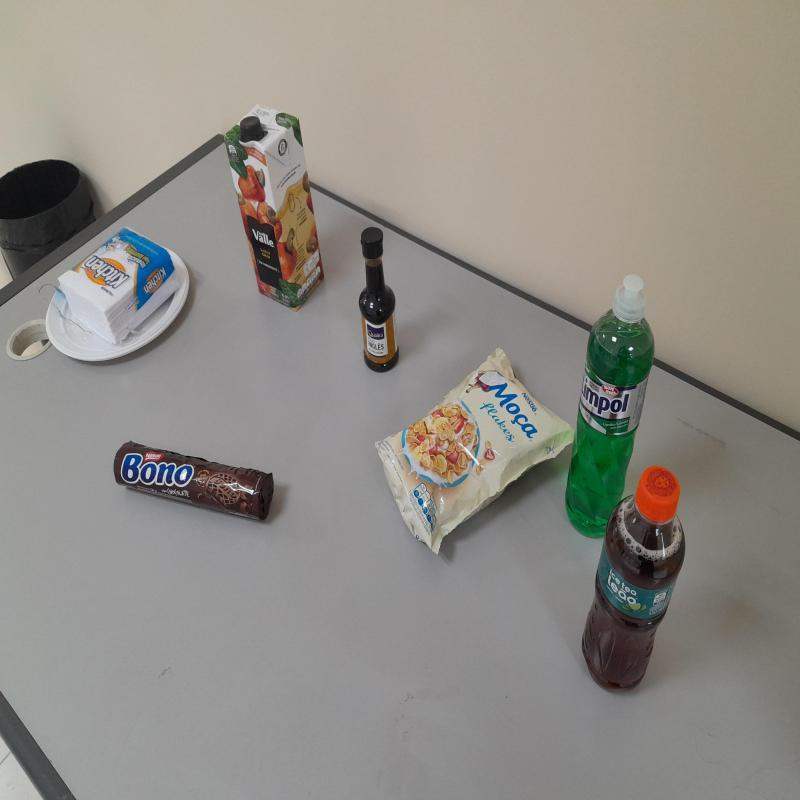Cleaner: (565, 274, 657, 536)
Cookies: (115, 438, 274, 528)
CornFlakes: (379, 344, 572, 556)
EnglishSauce: (357, 229, 399, 369)
IceTea: (577, 466, 687, 691)
